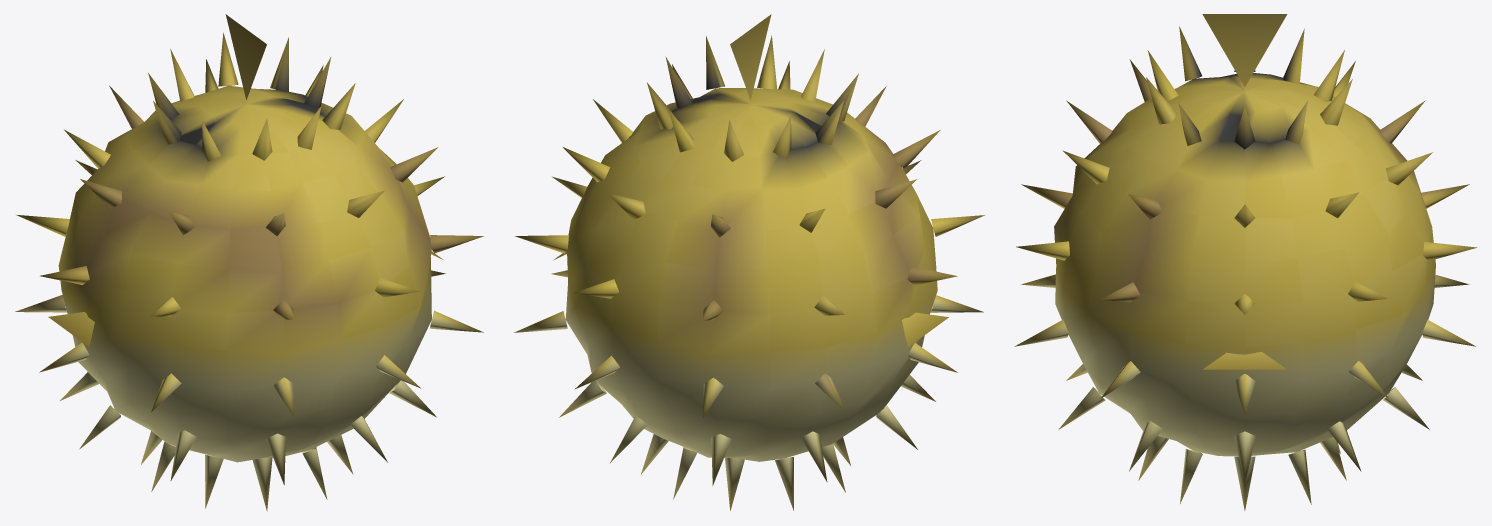
File: Pufferfish.glb
3 renders of one model, left to right at view 1: azimuth 30°, elevation 25°; view 2: azimuth 150°, elevation 25°; view 3: azimuth 270°, elevation 25°, orthographic. The views are drawn at different scales.
Parts seen in each view (by area): view 1: Pufferfish; view 2: Pufferfish; view 3: Pufferfish.
Part boxes in pixels (x1,y1,x2,y2): Pufferfish: (15,14,483,511); Pufferfish: (514,14,984,510); Pufferfish: (1014,14,1476,510).
Size of the model in its own units: 1.13 by 1.17 by 1.09.
